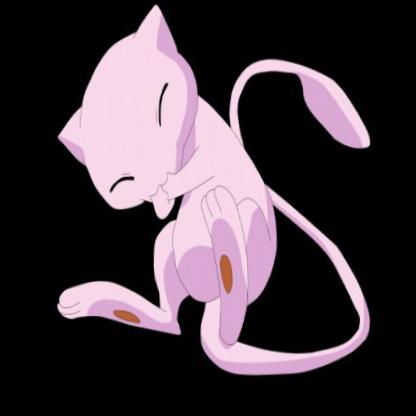Mew: (52, 12, 348, 402)
